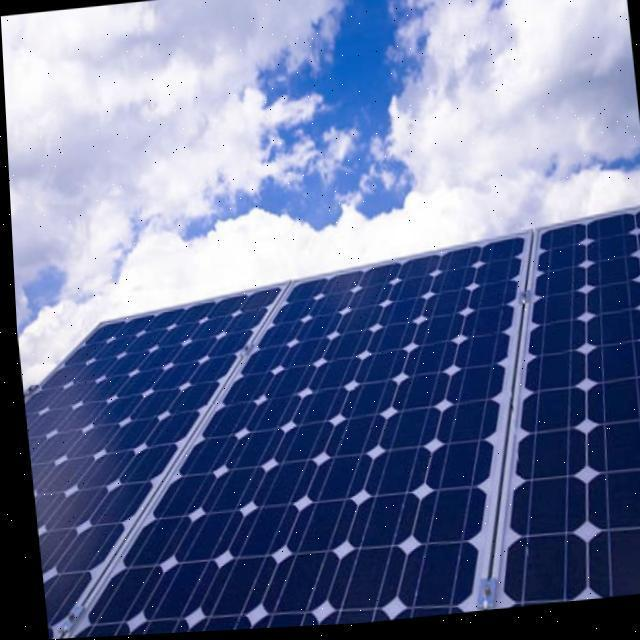Normal Solar Panel: (11, 234, 564, 640), (12, 282, 315, 640), (450, 210, 640, 615)
